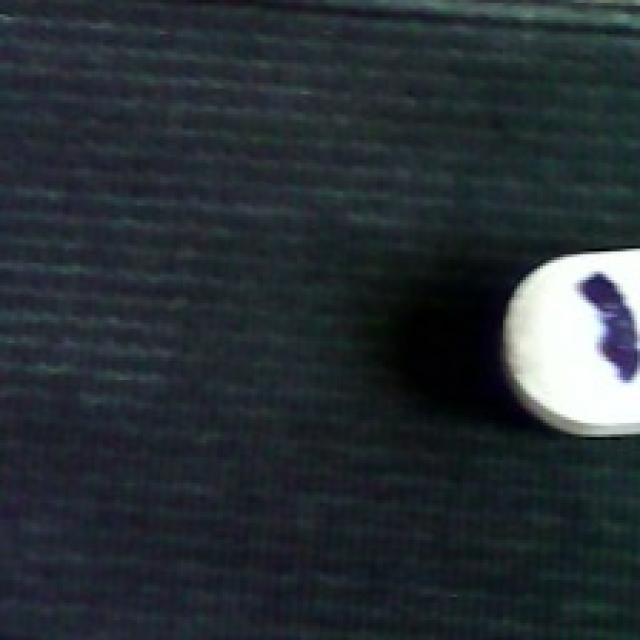defected: (494, 240, 640, 440)
